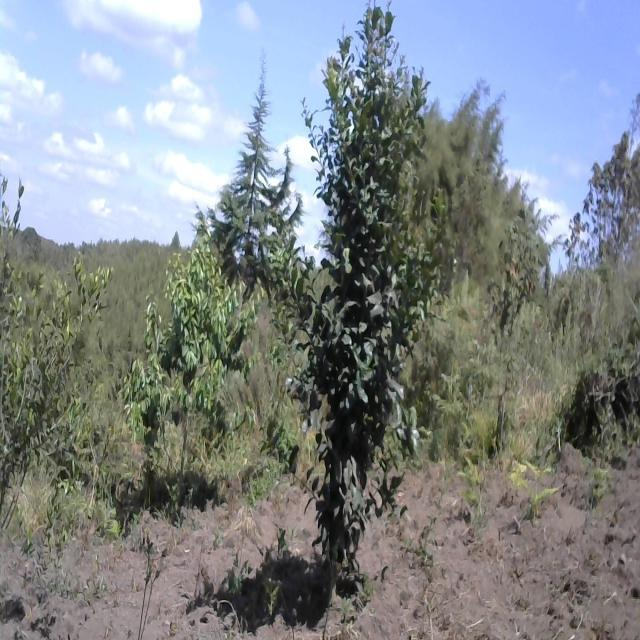Lemon Myrtle: (128, 251, 291, 511)
cedrus: (204, 40, 303, 279)
other: (291, 14, 455, 613), (495, 201, 544, 340)
